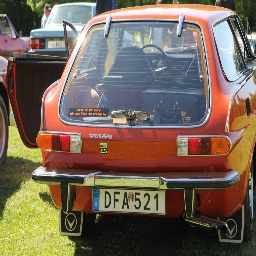sv_licence_plate: (92, 188, 163, 212)
